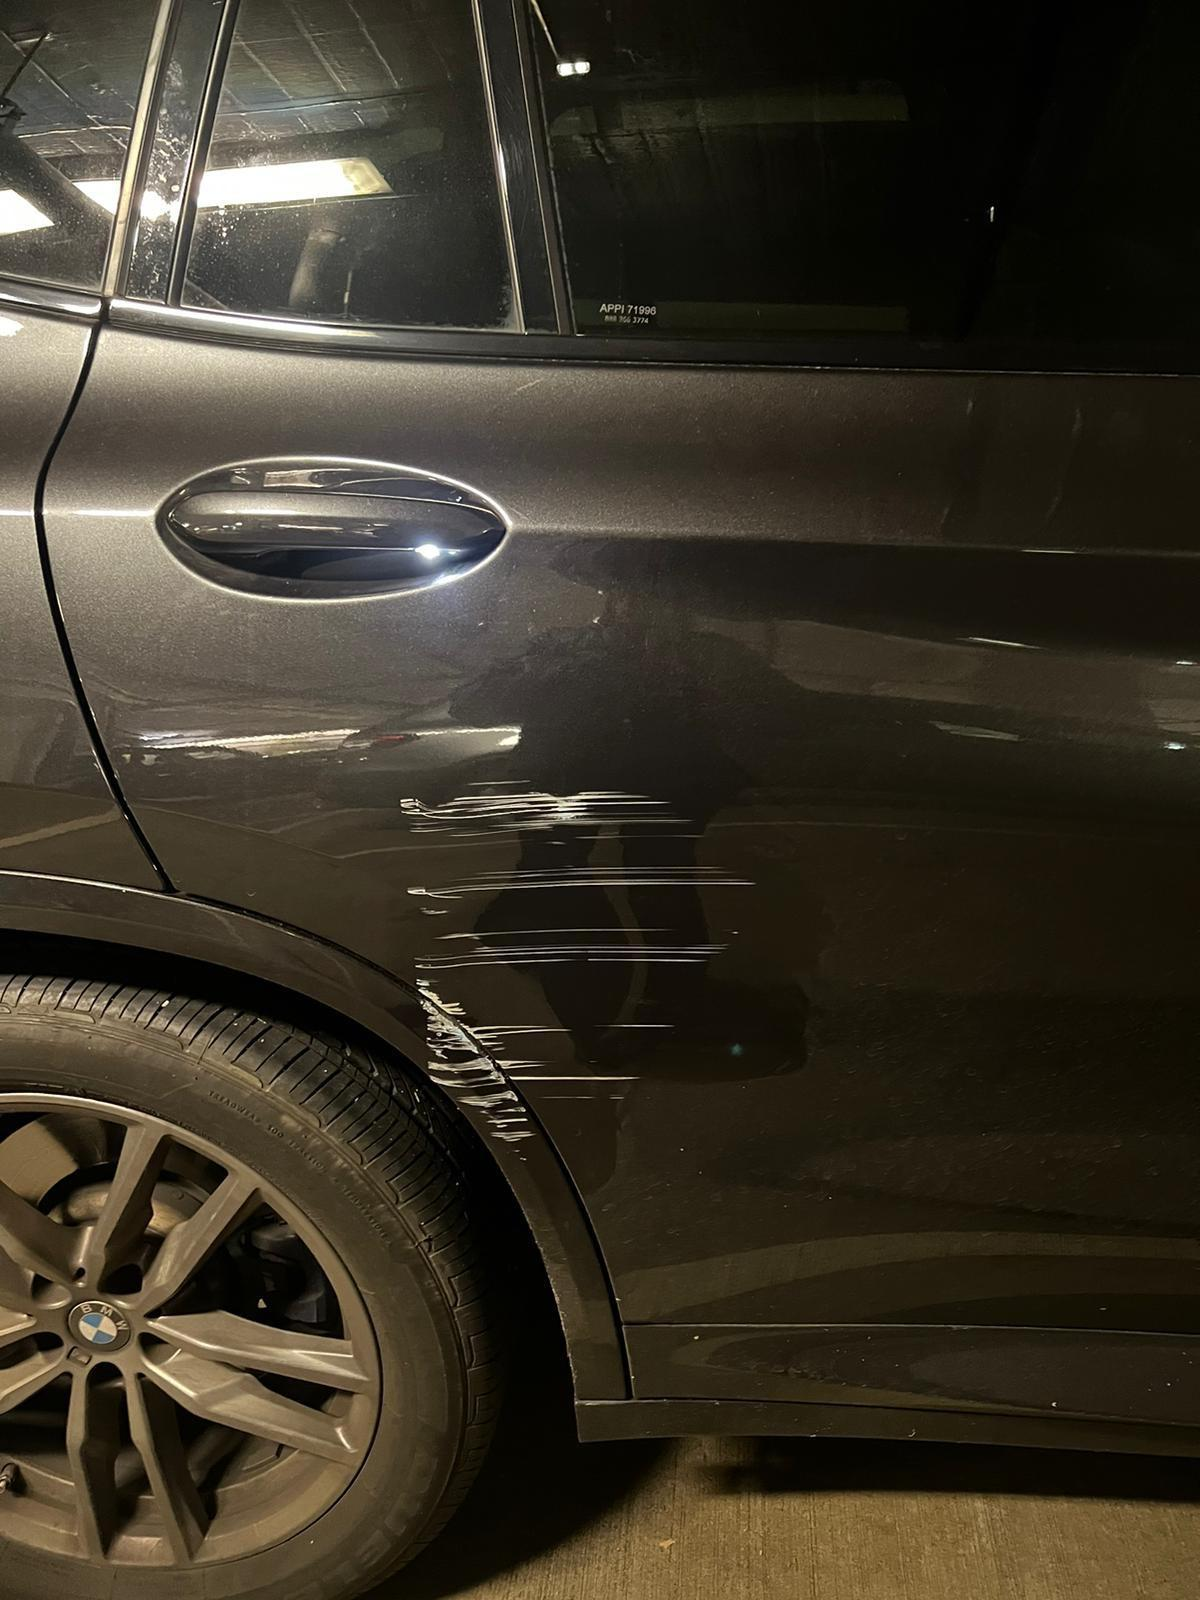scratch: (392, 770, 788, 1170)
